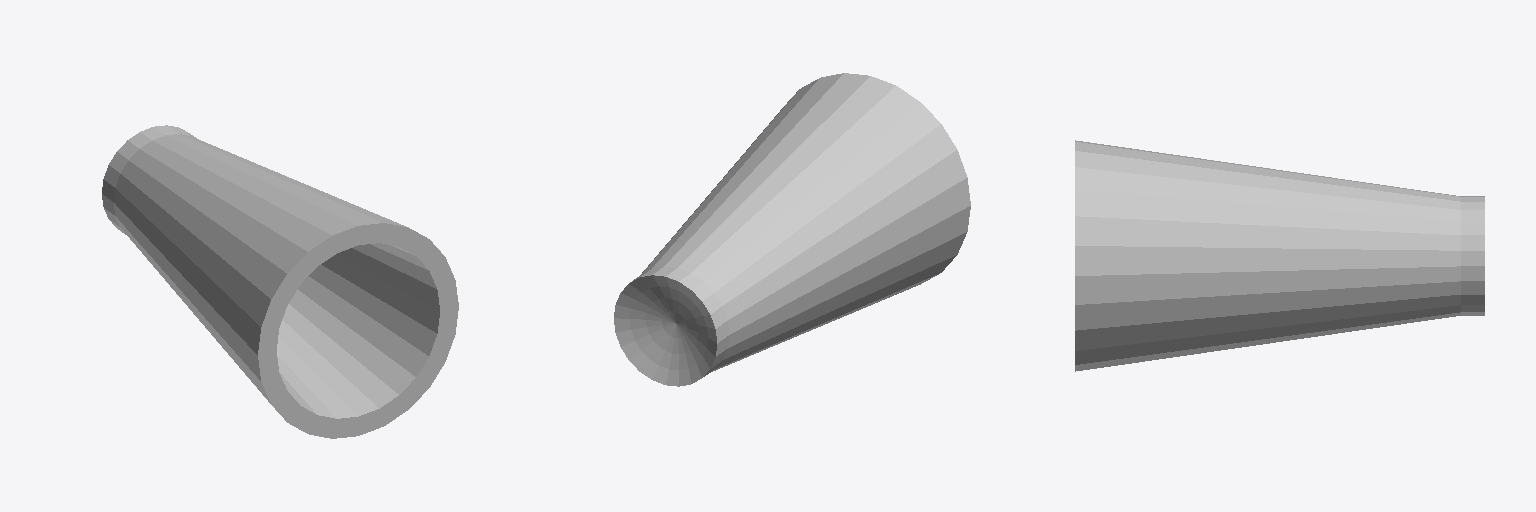
Rendered from cup_0004_origin_new.obj.
The picture shows the model from 3 angles: view 1: azimuth 30°, elevation 25°; view 2: azimuth 150°, elevation 25°; view 3: azimuth 270°, elevation 25°; orthographic projection.
Visible parts, largest first — view 1: cup_0004; view 2: cup_0004; view 3: cup_0004.
Boxes of the visible parts, x1,y1,x2,y2 form: cup_0004: [102, 125, 458, 438]; cup_0004: [614, 73, 970, 386]; cup_0004: [1075, 140, 1484, 371].
Size of the model in its own units: 0.085 by 0.085 by 0.15.